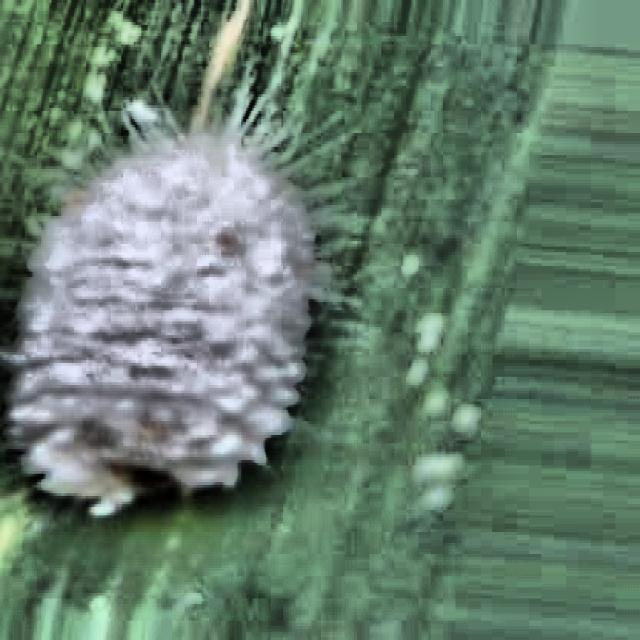Mealy-bug: (30, 79, 337, 550)
